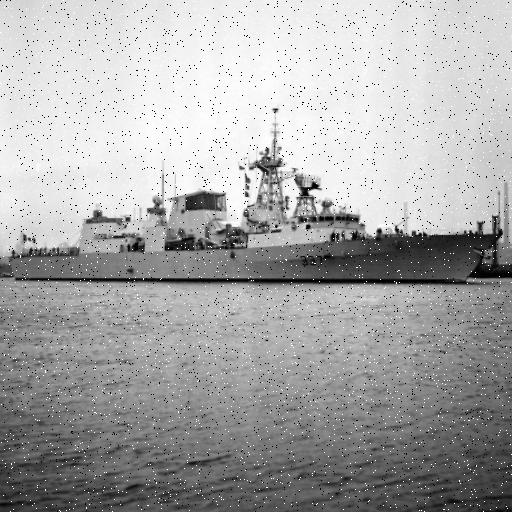Fragata: (4, 88, 508, 287)
